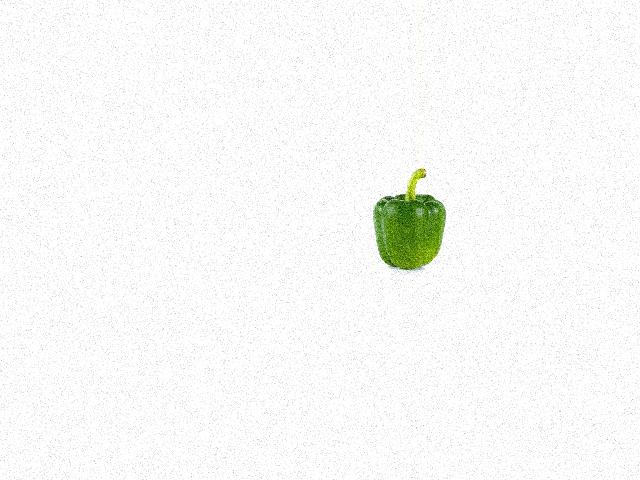bell_pepper: (361, 171, 447, 269)
